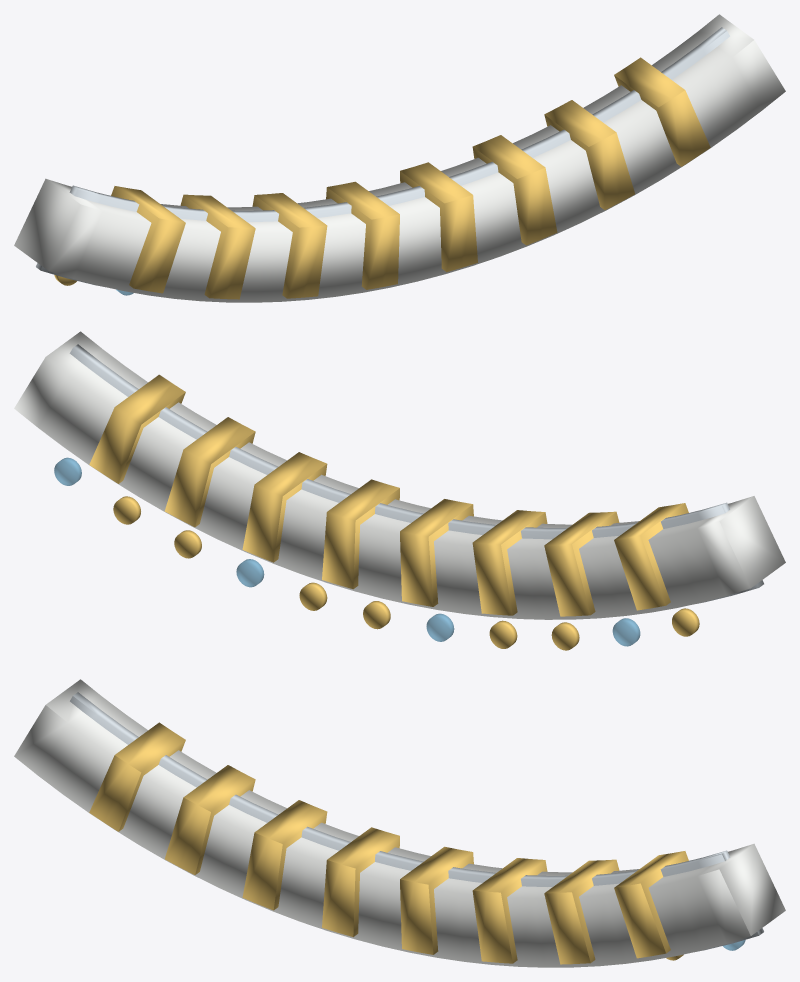
Rendered from L87_09_HabitatSegmentE_Fitted.fbx.
3 views of the same model, one above another, from view 1: azimuth 30°, elevation 25°; view 2: azimuth 150°, elevation 25°; view 3: azimuth 330°, elevation 25° (orthographic).
Visible parts, largest first — view 1: L87_HabitatSegmentE_ANIM_HABITAT_SEGMENT_E__tintE3E6E0, L87_HabitatSegmentE_ANIM_HABITAT_SEGMENT_E__tintF5A62B, L87_HabitatSegmentE_ANIM_HABITAT_SEGMENT_E__tintB0BFCC; view 2: L87_HabitatSegmentE_ANIM_HABITAT_SEGMENT_E__tintE3E6E0, L87_HabitatSegmentE_ANIM_HABITAT_SEGMENT_E__tintF5A62B, L87_HabitatSegmentE_ANIM_HABITAT_SEGMENT_E__tintB0BFCC, L87_HabitatSegmentE_ANIM_HABITAT_SEGMENT_E__glass; view 3: L87_HabitatSegmentE_ANIM_HABITAT_SEGMENT_E__tintE3E6E0, L87_HabitatSegmentE_ANIM_HABITAT_SEGMENT_E__tintF5A62B, L87_HabitatSegmentE_ANIM_HABITAT_SEGMENT_E__tintB0BFCC.
Boxes of the visible parts, x1,y1,x2,y2 form: L87_HabitatSegmentE_ANIM_HABITAT_SEGMENT_E__tintE3E6E0: (14, 14, 785, 302); L87_HabitatSegmentE_ANIM_HABITAT_SEGMENT_E__tintF5A62B: (54, 57, 710, 299); L87_HabitatSegmentE_ANIM_HABITAT_SEGMENT_E__tintB0BFCC: (36, 27, 729, 287); L87_HabitatSegmentE_ANIM_HABITAT_SEGMENT_E__tintE3E6E0: (14, 331, 785, 619); L87_HabitatSegmentE_ANIM_HABITAT_SEGMENT_E__tintF5A62B: (89, 374, 699, 650); L87_HabitatSegmentE_ANIM_HABITAT_SEGMENT_E__tintB0BFCC: (69, 344, 763, 603); L87_HabitatSegmentE_ANIM_HABITAT_SEGMENT_E__glass: (54, 457, 640, 646); L87_HabitatSegmentE_ANIM_HABITAT_SEGMENT_E__tintE3E6E0: (14, 679, 785, 967); L87_HabitatSegmentE_ANIM_HABITAT_SEGMENT_E__tintF5A62B: (89, 722, 688, 964); L87_HabitatSegmentE_ANIM_HABITAT_SEGMENT_E__tintB0BFCC: (70, 692, 763, 952).
Size of the model in its own units: 51.28 by 12.31 by 5.74.
